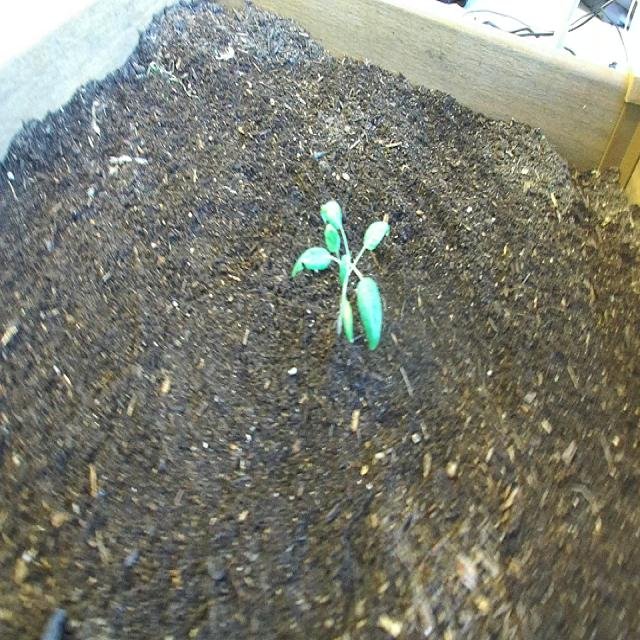Healthy: (288, 184, 406, 367)
